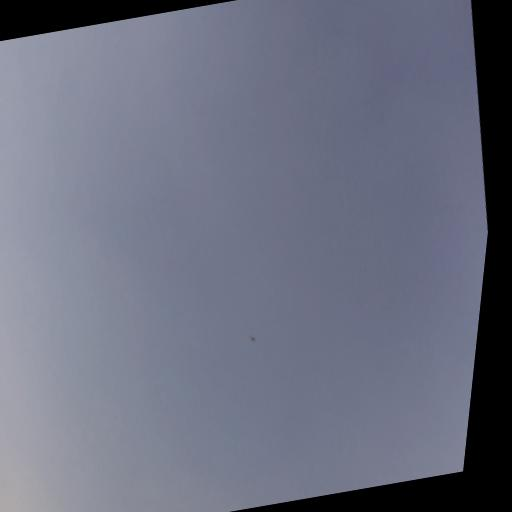drones: (246, 331, 258, 345)
